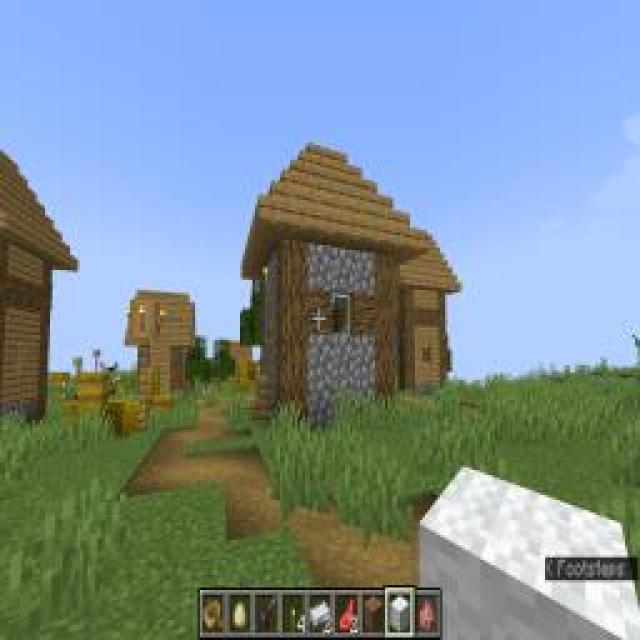Villager: (240, 132, 430, 430), (400, 224, 462, 404)
